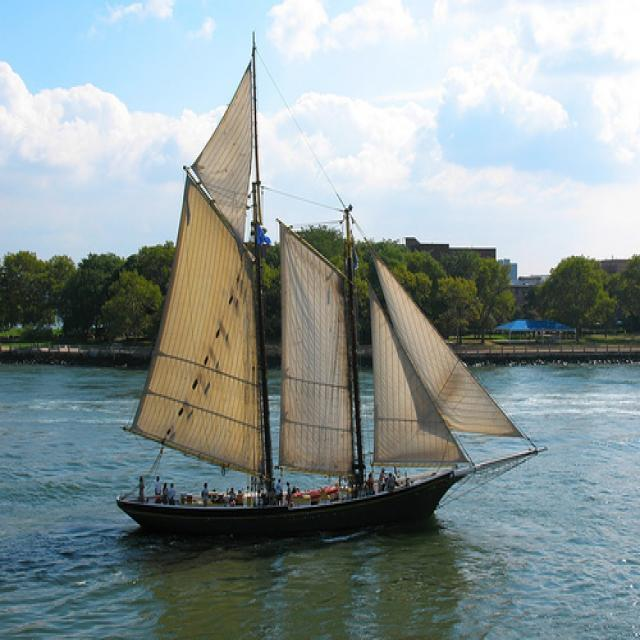Ship: (119, 30, 555, 544)
